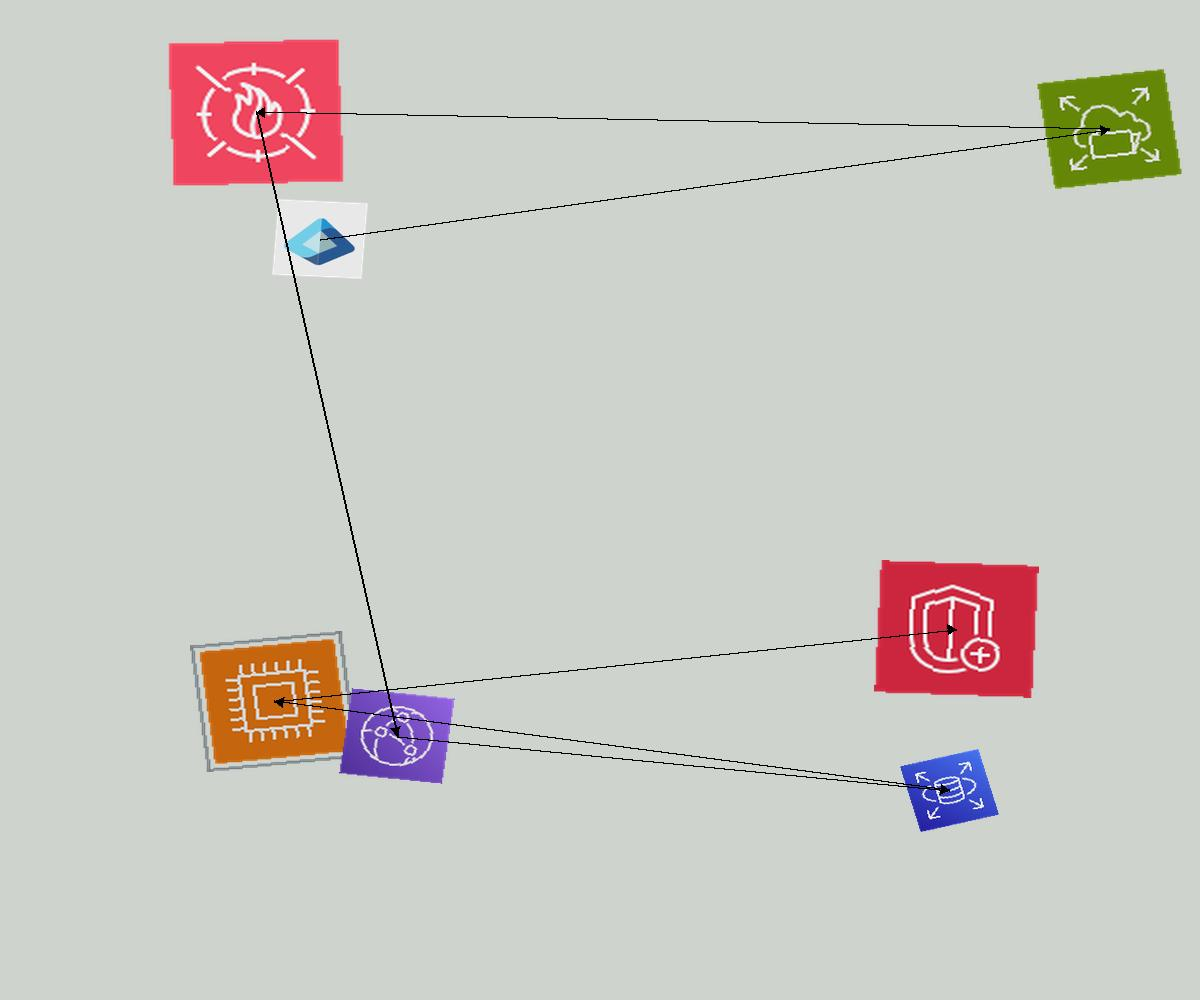AWS-Category_Compute: (190, 631, 359, 772)
AWS-CloudFront: (339, 688, 455, 784)
AWS-EFS: (1036, 68, 1183, 190)
AWS-RDS: (900, 749, 999, 832)
AWS-Shield: (874, 560, 1039, 698)
AWS-WAF: (167, 38, 345, 187)
Azure_microsoft_entra: (272, 199, 368, 279)
